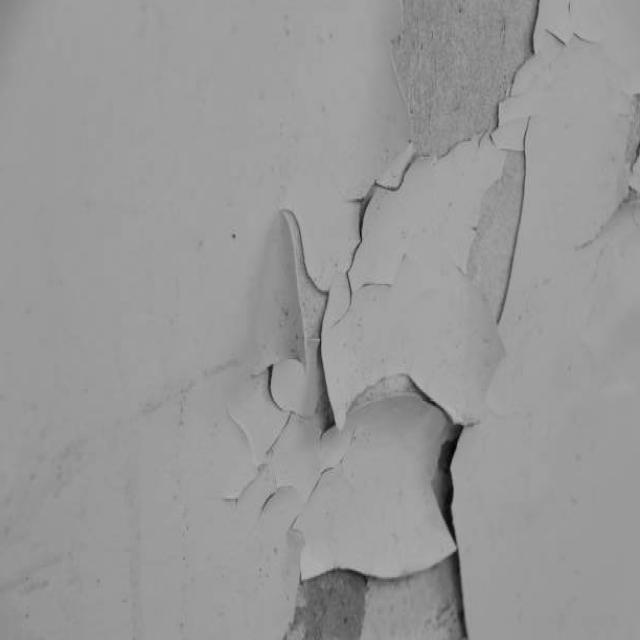peeling paint: (200, 0, 640, 640)
